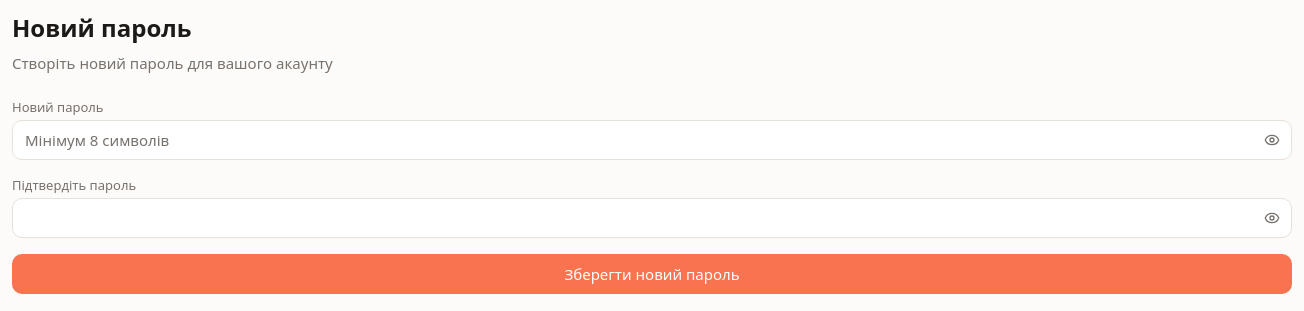
Test: ResetPasswordForm › saves and confirms in place, so it also works for a signed-in user
Type "12345678" into the password field labelled "Новий пароль". click: (652, 140)
box: [12,120,1292,160]
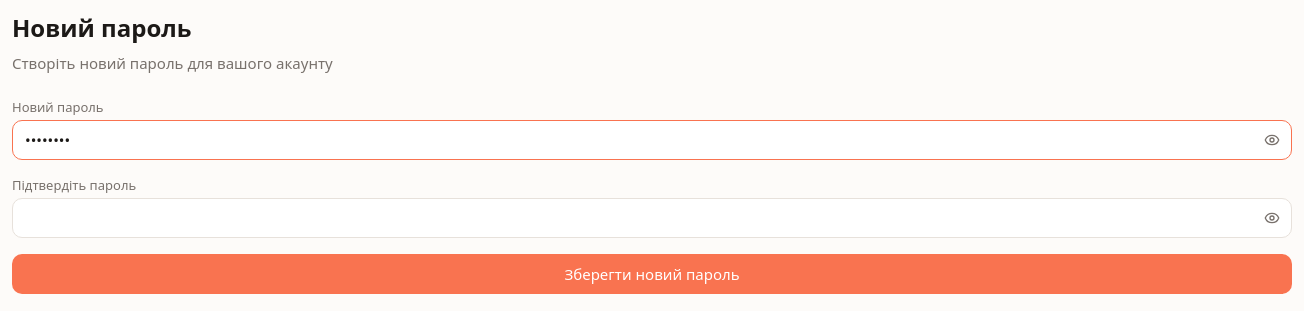
Type "12345678" into the password field labelled "Підтвердіть пароль". click: (652, 218)
box: [12,198,1292,238]
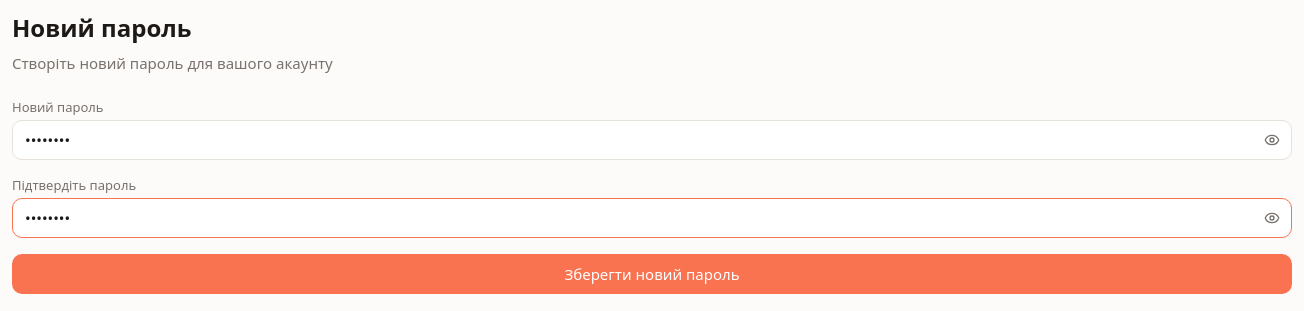
Click the button "Зберегти новий пароль". click: (652, 274)
box: [12,254,1292,294]
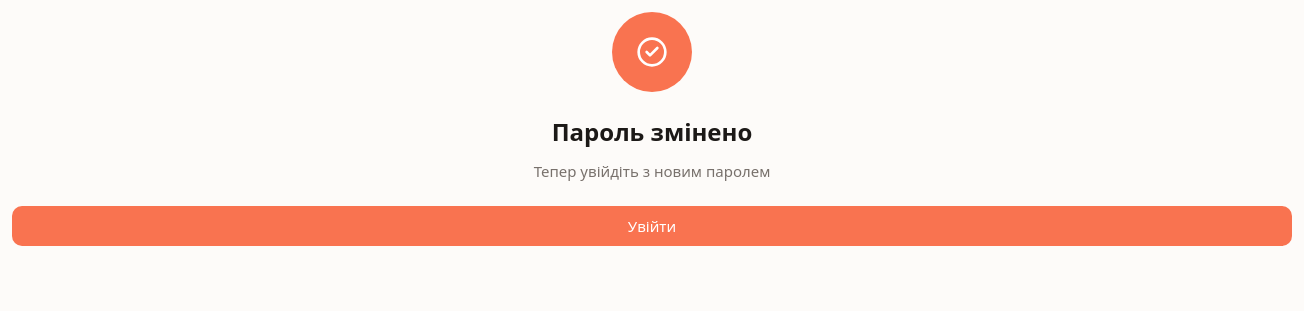
Check: the heading "Пароль змінено" is shown, box [552,116,752,148]
